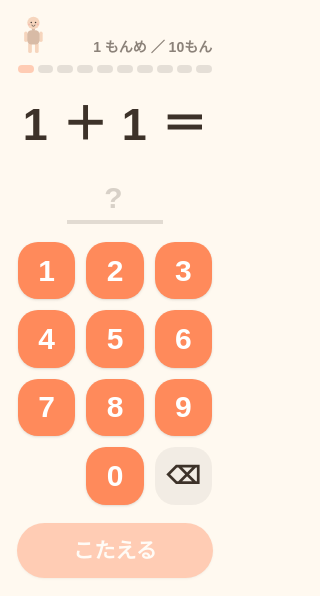
it: moves on to the next question by itself after a correct answer
The image size is (320, 596).
Click the button "2" at (115, 271), box [86,242,144,299]
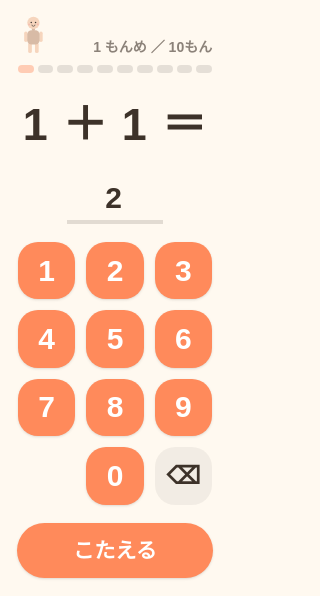
Click the button "こたえる" at (115, 550), box [17,522,213,578]
Wait 800 ms
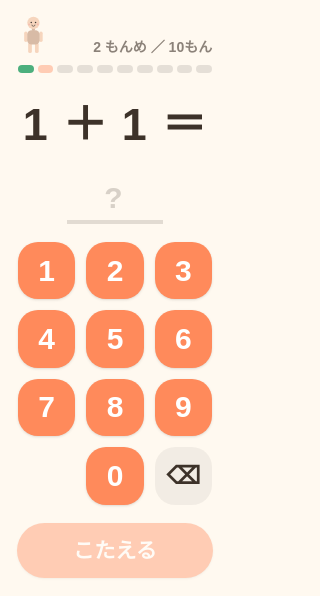
Check: the text "2 もんめ ／ 10もん" is shown, box [93,37,212,57]
